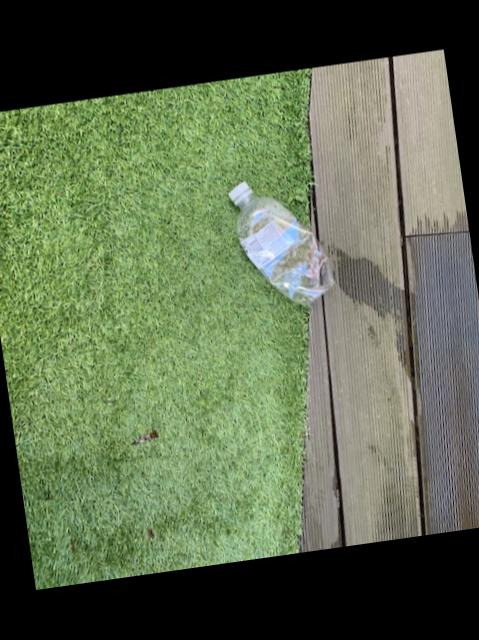plastic: (229, 184, 334, 306)
